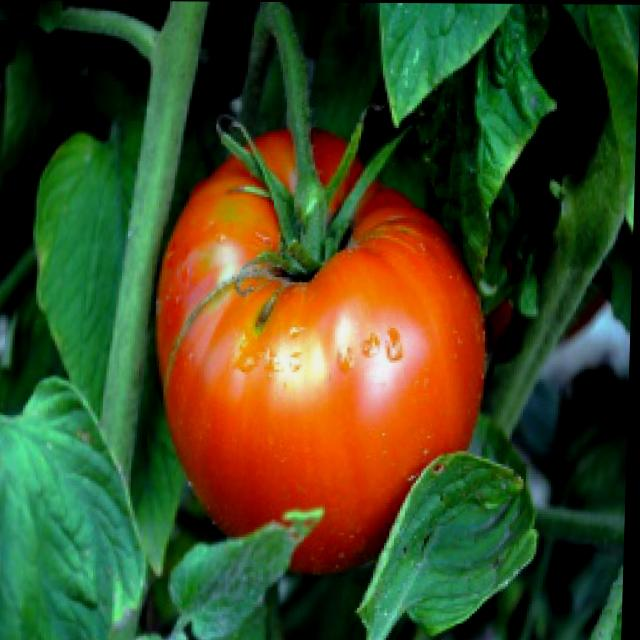tomato: (155, 128, 497, 570)
